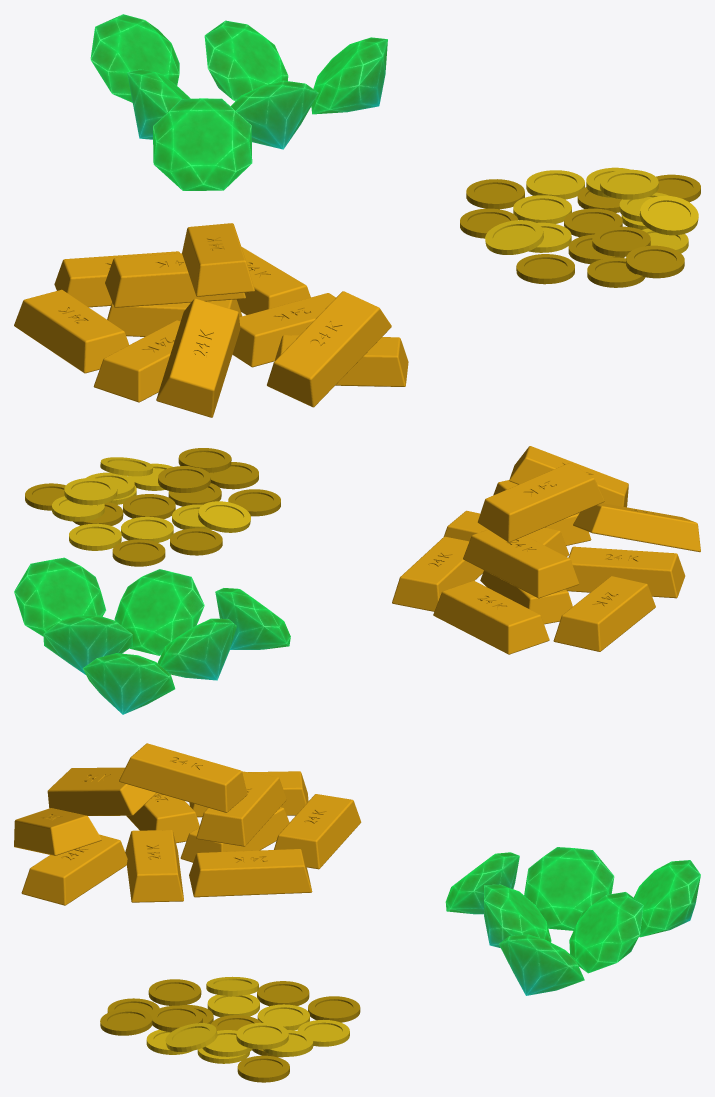
File: grupoRiquezaCompleta.glb
The picture shows the model from 3 angles, top to bottom: view 1: azimuth 30°, elevation 25°; view 2: azimuth 150°, elevation 25°; view 3: azimuth 270°, elevation 25°; orthographic projection. The views are drawn at different scales.
Parts seen in each view (by area): view 1: Object_4.002, Object_7.004, Coin.012; view 2: Object_4.002, Object_7.004, Coin.012; view 3: Object_4.002, Object_7.004, Coin.012.
Part boxes in pixels (bbox=[...]): Object_4.002: bbox=[14, 223, 408, 417]; Object_7.004: bbox=[90, 14, 387, 190]; Coin.012: bbox=[460, 167, 700, 287]; Object_4.002: bbox=[392, 446, 700, 654]; Object_7.004: bbox=[14, 557, 290, 714]; Coin.012: bbox=[25, 448, 280, 566]; Object_4.002: bbox=[14, 743, 361, 905]; Object_7.004: bbox=[445, 847, 700, 995]; Coin.012: bbox=[100, 976, 360, 1082].
Size of the model in its own units: 26.01 by 4.08 by 26.24.
37 materials, 6 textured.
